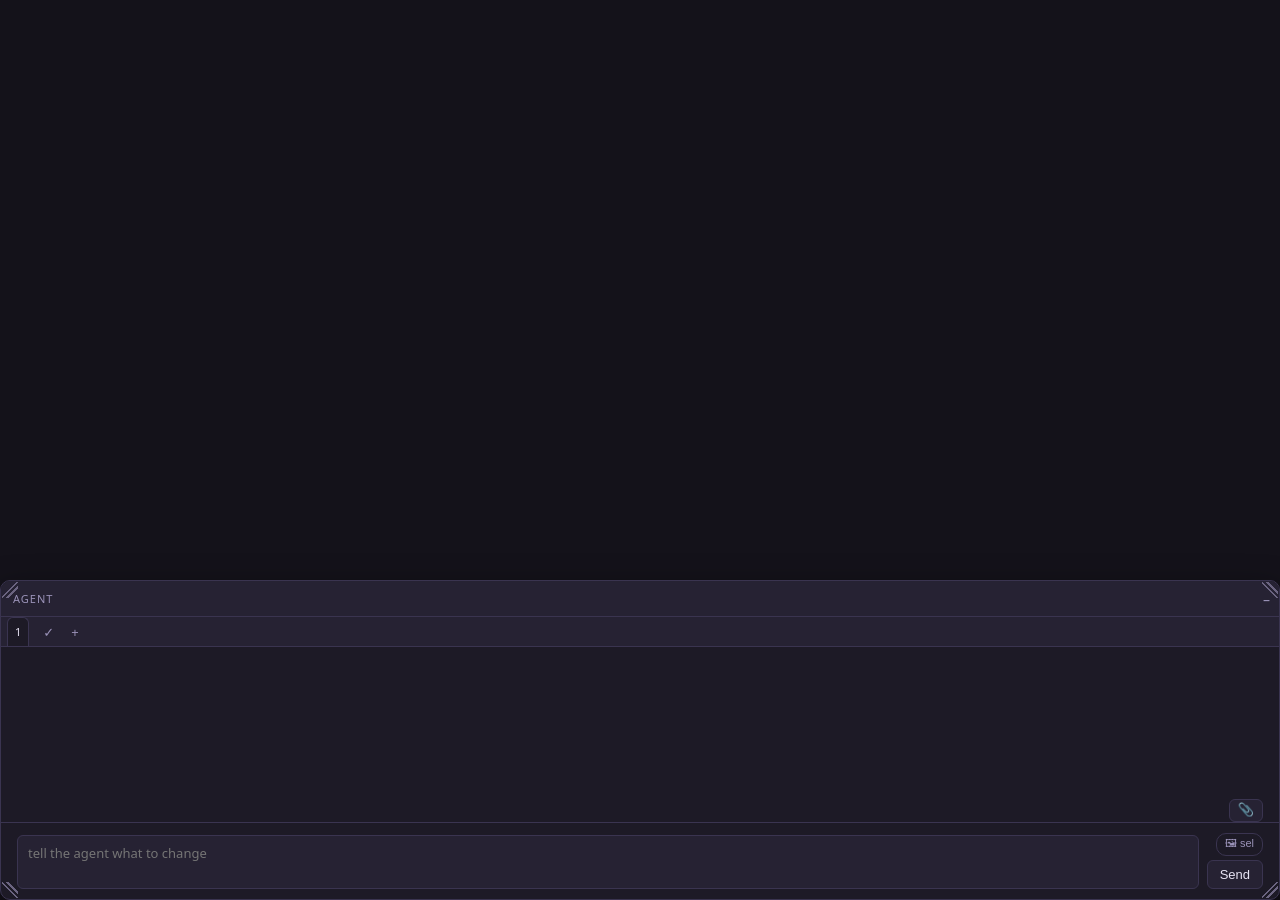
Test case: FloatingChat › sending shows the user entry and streams the agent reply
Step 1. Type "make scene 2 shorter" into the text box named "message the agent" → point(608, 862), box [17, 835, 1199, 889]
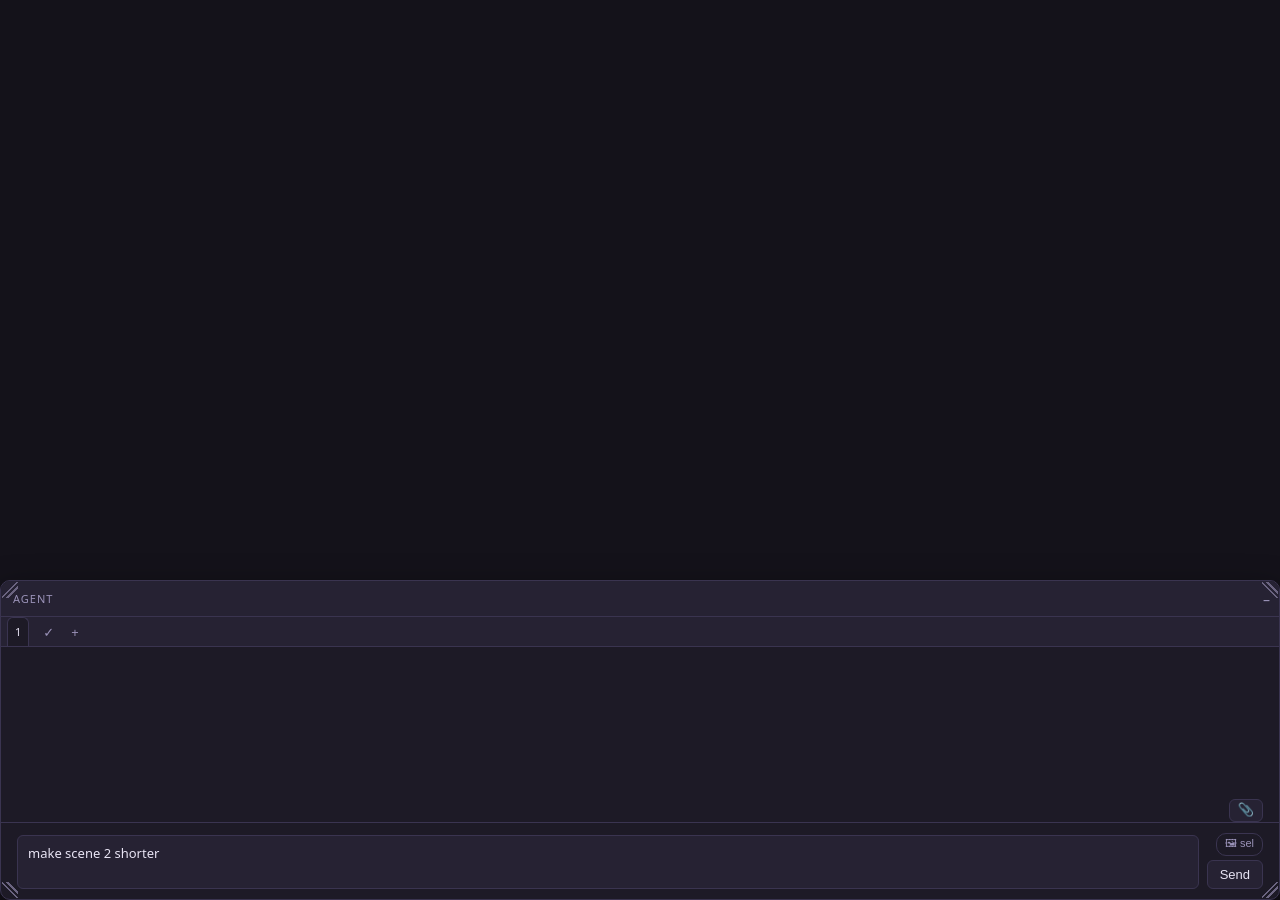
Step 2. Click the button "Send" → point(1235, 874), box [1207, 860, 1263, 889]
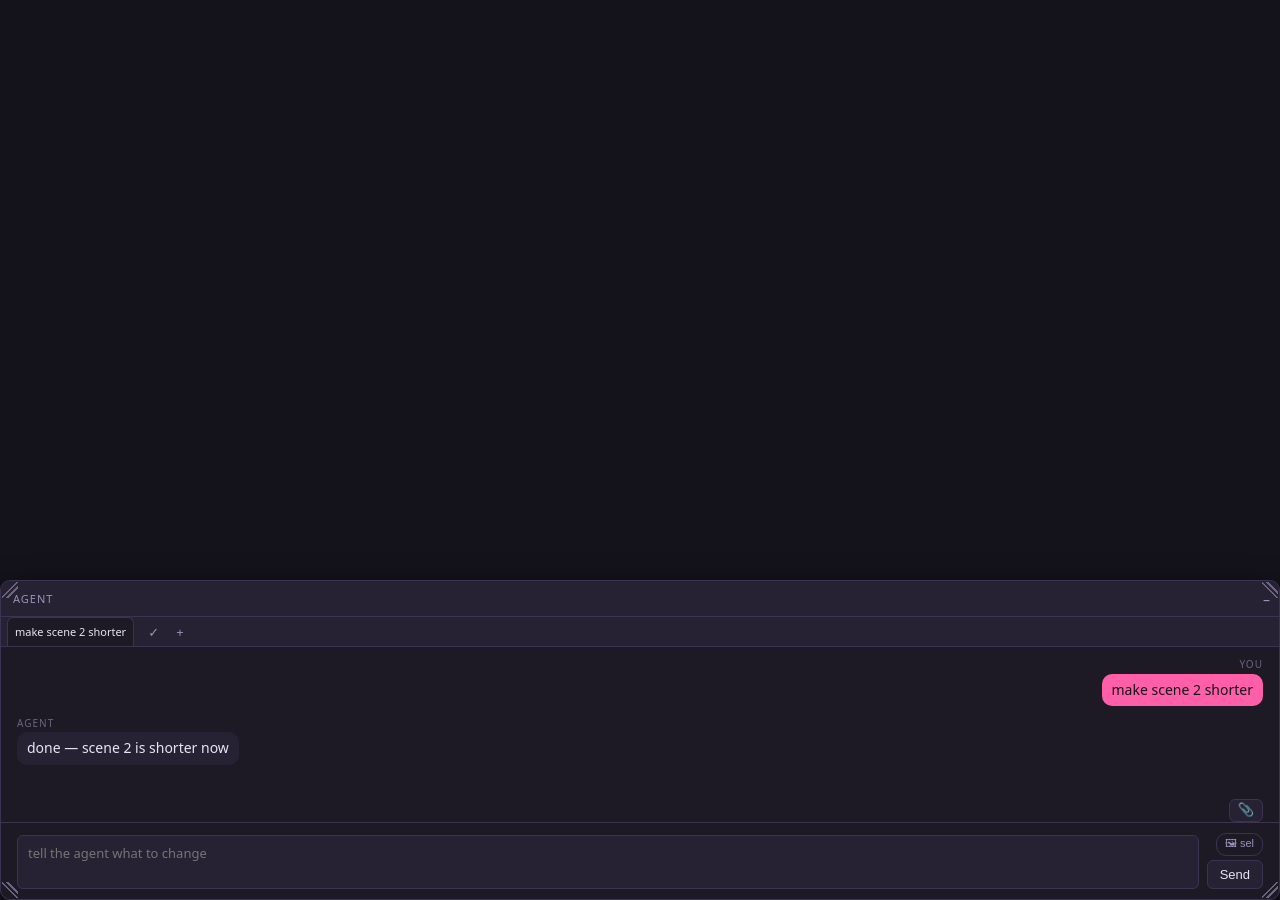
Expected: the text "make scene 2 shorter" is shown 2 times, [15, 624, 126, 640]; [1102, 674, 1263, 706]
Result: the text "done — scene 2 is shorter now" is shown at [17, 732, 239, 765]
